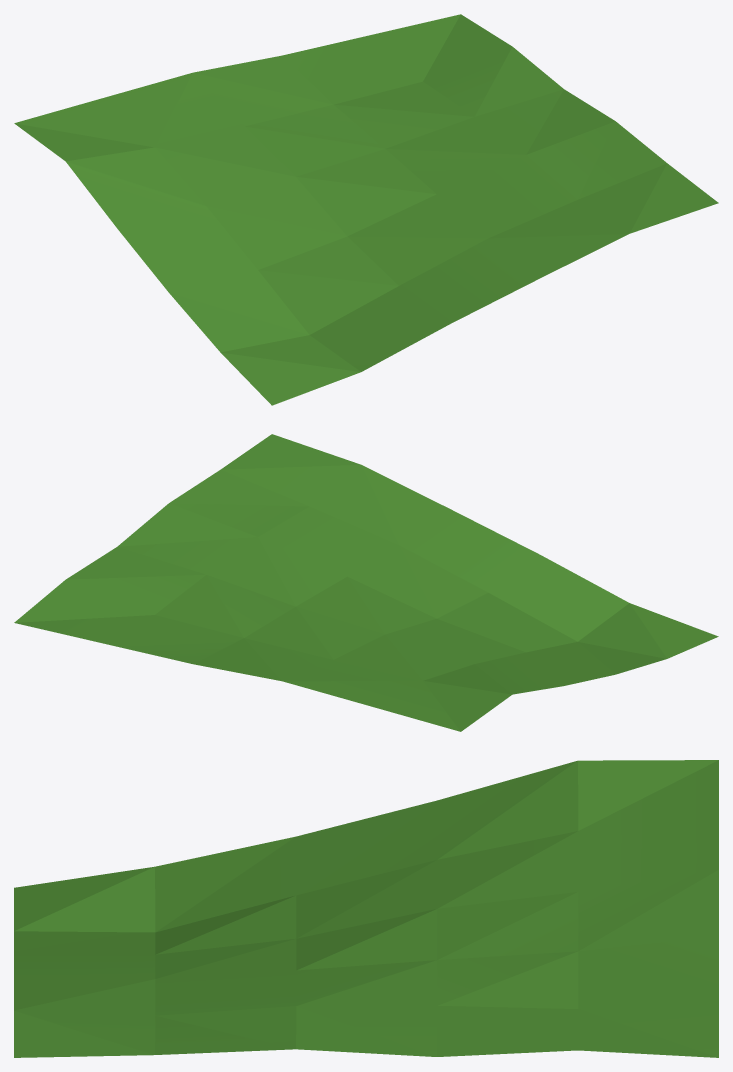
Rendered from terrains_terrain-plane-valley3.fbx.
3 views of the same model, one above another, from view 1: azimuth 30°, elevation 25°; view 2: azimuth 150°, elevation 25°; view 3: azimuth 270°, elevation 25° (orthographic). The views are drawn at different scales.
Visible parts, largest first — view 1: terrains_terrain_plane_valley3; view 2: terrains_terrain_plane_valley3; view 3: terrains_terrain_plane_valley3.
Part boxes in pixels (left/top/right/bottom): terrains_terrain_plane_valley3: left=14, top=14, right=718, bottom=405; terrains_terrain_plane_valley3: left=14, top=434, right=718, bottom=731; terrains_terrain_plane_valley3: left=14, top=760, right=718, bottom=1057.
Bounding box in the file's own units: 200 × 43 × 200.
